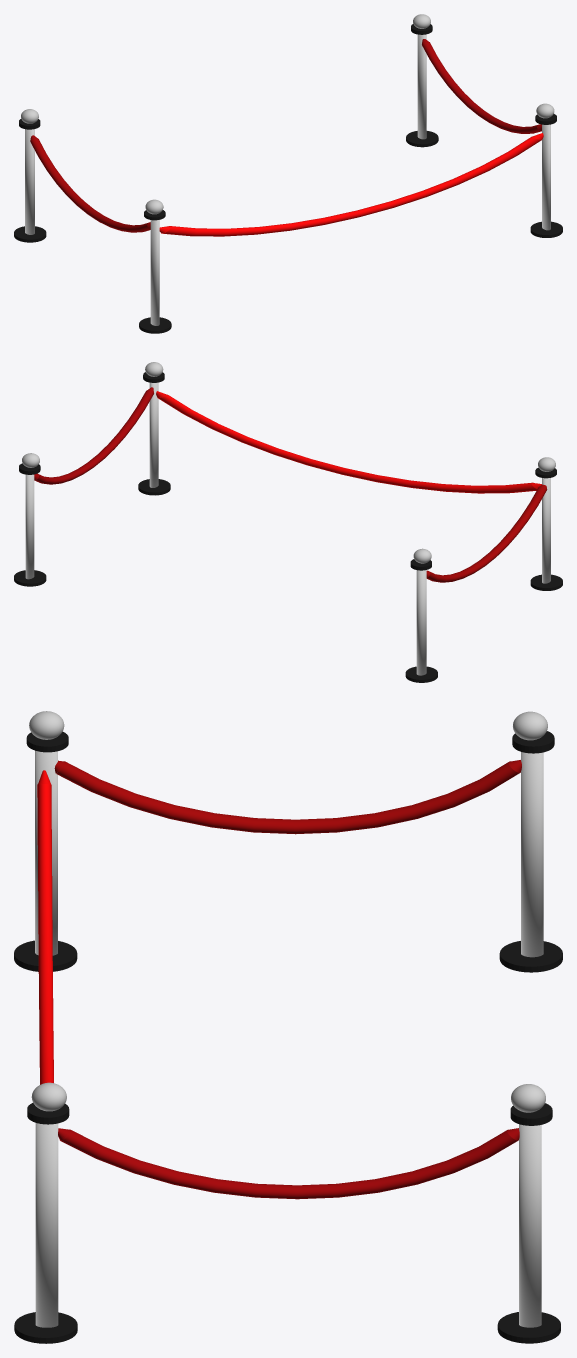
File: Barricade_9.obj
The picture shows the model from 3 angles, top to bottom: view 1: azimuth 30°, elevation 25°; view 2: azimuth 150°, elevation 25°; view 3: azimuth 270°, elevation 25°; orthographic projection. The views are drawn at different scales.
Parts seen in each view (by area): view 1: Circle.003_Circle.004, Circle.002_Circle.003, Circle, Cylinder.001_Cylinder.013, Cylinder.010, Cylinder.007_Cylinder.019, Cylinder.004_Cylinder.016, Cylinder.000_Cylinder.012; view 2: Circle.003_Circle.004, Circle.002_Circle.003, Circle, Cylinder.010, Cylinder.007_Cylinder.019, Cylinder.004_Cylinder.016, Cylinder.001_Cylinder.013; view 3: Circle.002_Circle.003, Circle, Cylinder.004_Cylinder.016, Cylinder.010, Cylinder.007_Cylinder.019, Circle.003_Circle.004, Cylinder.001_Cylinder.013, Cylinder.005_Cylinder.017, Cylinder.006_Cylinder.018, Cylinder.011, Cylinder.000_Cylinder.012, Sphere.001_Sphere.005 (+3 smaller).
Part boxes in pixels (box(x1,y1,x2,y2)): Circle.003_Circle.004: box(159, 133, 543, 236); Circle.002_Circle.003: box(30, 135, 150, 232); Circle: box(422, 39, 541, 133); Cylinder.001_Cylinder.013: box(150, 220, 159, 325); Cylinder.010: box(25, 129, 34, 234); Cylinder.007_Cylinder.019: box(417, 34, 426, 139); Cylinder.004_Cylinder.016: box(542, 124, 550, 230); Cylinder.000_Cylinder.012: box(139, 317, 171, 333); Circle.003_Circle.004: box(156, 391, 541, 493); Circle.002_Circle.003: box(426, 484, 547, 582); Circle: box(34, 387, 153, 484); Cylinder.010: box(416, 570, 426, 675); Cylinder.007_Cylinder.019: box(25, 474, 34, 579); Cylinder.004_Cylinder.016: box(149, 382, 158, 487); Cylinder.001_Cylinder.013: box(542, 478, 550, 583); Circle.002_Circle.003: box(54, 760, 521, 834); Circle: box(58, 1128, 519, 1199); Cylinder.004_Cylinder.016: box(35, 1123, 58, 1327); Cylinder.010: box(521, 752, 543, 957); Cylinder.007_Cylinder.019: box(519, 1124, 541, 1327); Circle.003_Circle.004: box(37, 770, 53, 1084); Cylinder.001_Cylinder.013: box(35, 750, 57, 955); Cylinder.005_Cylinder.017: box(14, 1312, 77, 1343); Cylinder.006_Cylinder.018: box(497, 1312, 560, 1343); Cylinder.011: box(499, 941, 562, 972); Cylinder.000_Cylinder.012: box(14, 940, 77, 971); Sphere.001_Sphere.005: box(31, 1082, 66, 1111).
Bounding box in the file's own units: 15.18 × 4.36 × 8.84.
